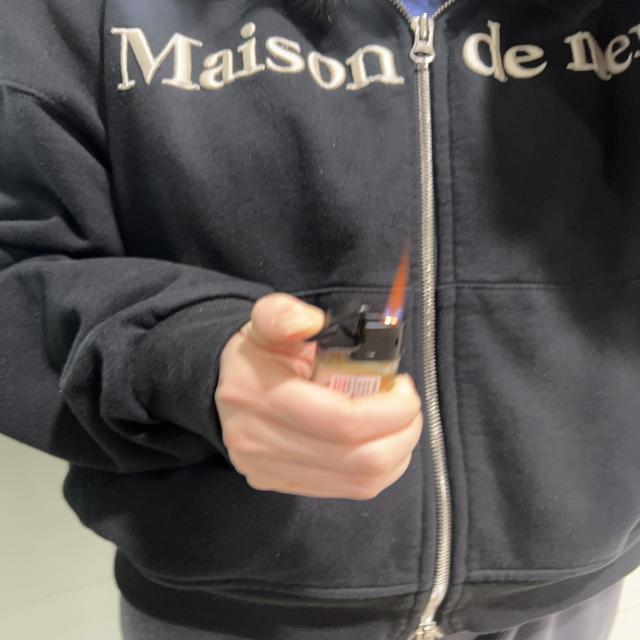fire: (385, 250, 412, 320)
